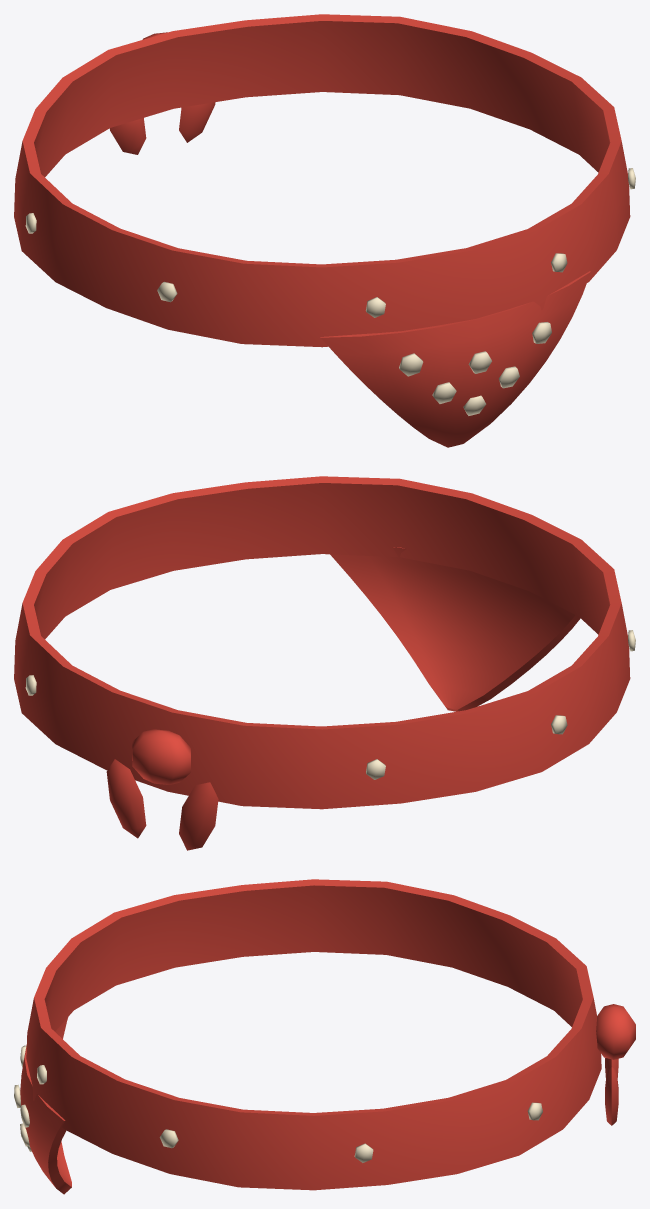
The model's file is neck_bandana.glb.
The picture shows the model from 3 angles, top to bottom: view 1: azimuth 30°, elevation 25°; view 2: azimuth 150°, elevation 25°; view 3: azimuth 270°, elevation 25°; orthographic projection. The views are drawn at different scales.
Parts seen in each view (by area): view 1: Band, Triangle, Dots, Knot; view 2: Band, Triangle, Knot, Dots; view 3: Band, Triangle, Knot, Dots.
Boxes of the visible parts, x1=… form: Band: x1=14, y1=14, x2=630, y2=347; Triangle: x1=320, y1=271, x2=590, y2=447; Dots: x1=25, y1=168, x2=635, y2=415; Knot: x1=109, y1=32, x2=215, y2=154; Band: x1=14, y1=476, x2=630, y2=809; Triangle: x1=330, y1=547, x2=580, y2=711; Knot: x1=106, y1=729, x2=218, y2=850; Dots: x1=25, y1=630, x2=635, y2=779; Band: x1=26, y1=879, x2=601, y2=1190; Triangle: x1=20, y1=1017, x2=71, y2=1194; Knot: x1=596, y1=1004, x2=635, y2=1125; Dots: x1=14, y1=1045, x2=542, y2=1162.
Size of the model in its own units: 0.8623 by 0.3197 by 0.9287.
